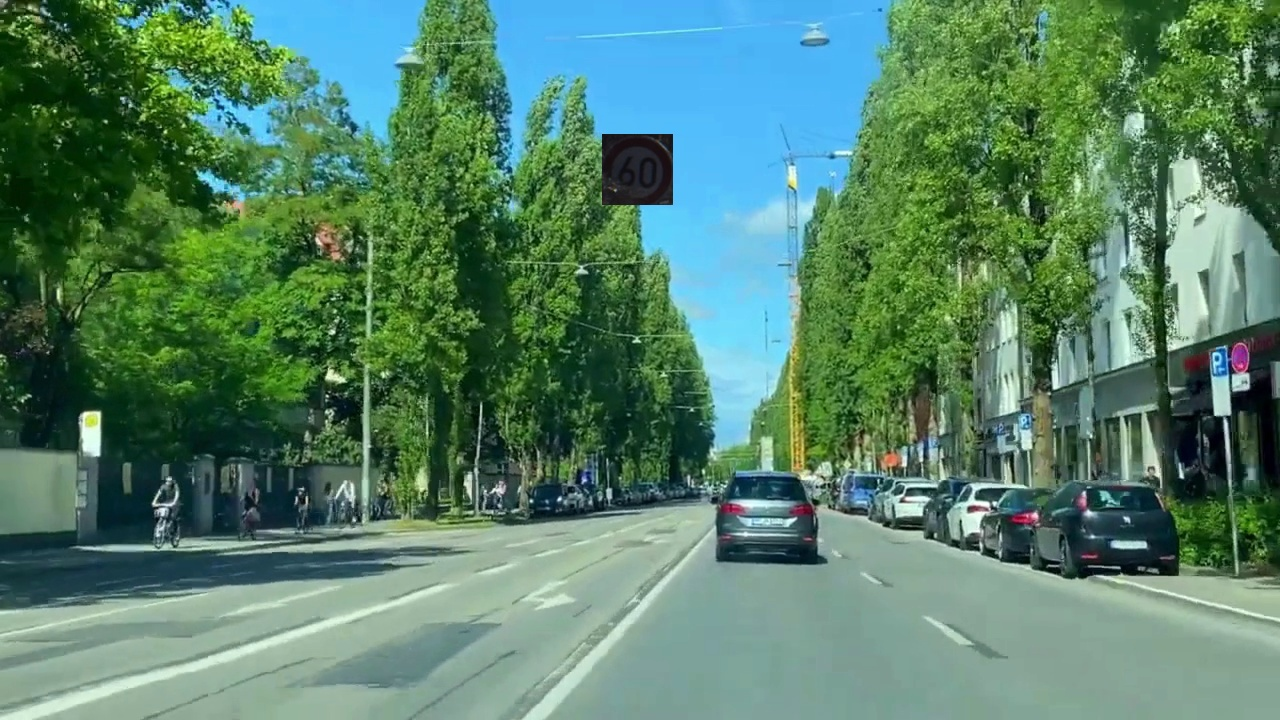Speed 60: (602, 134, 673, 205)
